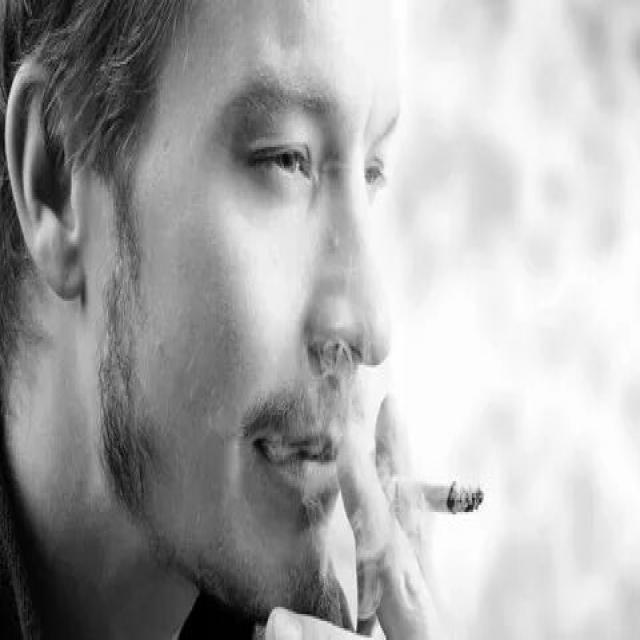cigarette: (371, 474, 489, 519)
